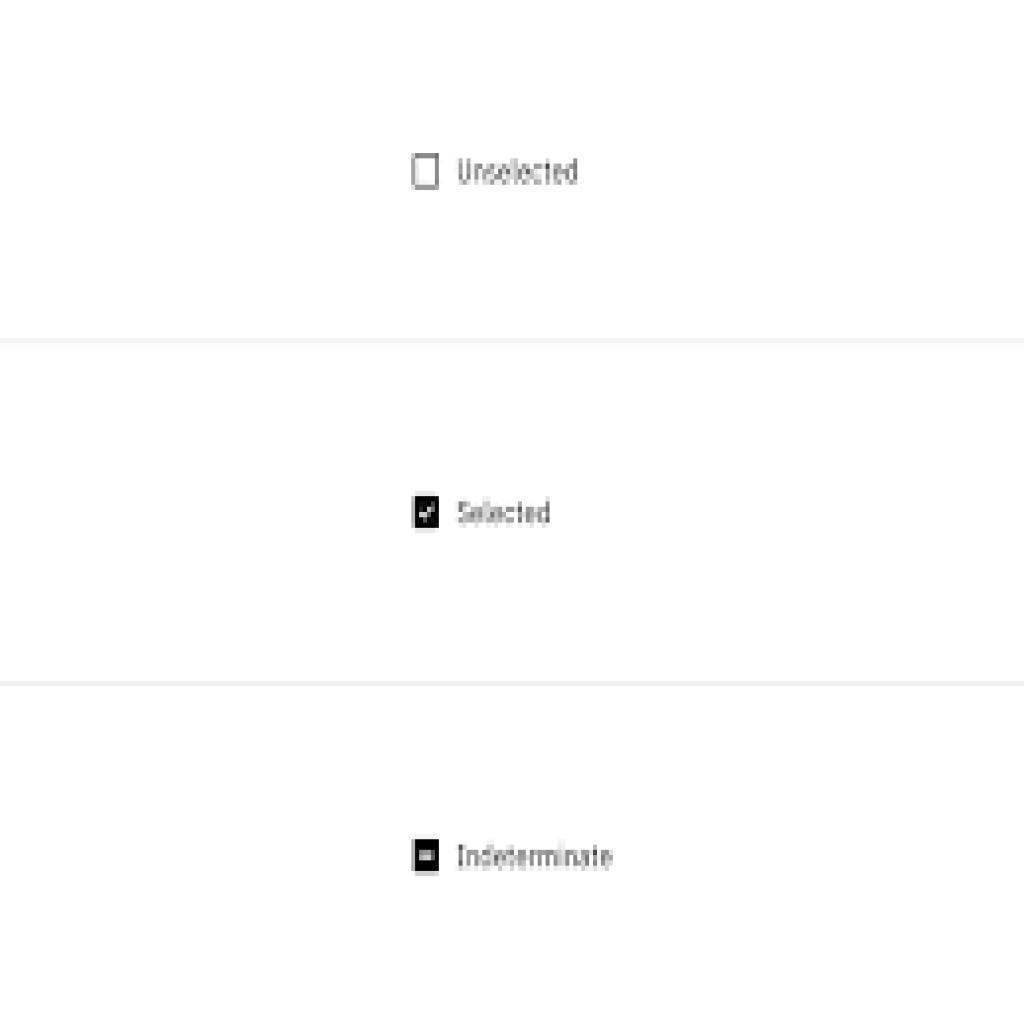checkbox: (413, 153, 439, 188), (415, 840, 439, 871), (414, 497, 437, 527)
label: (451, 837, 619, 875), (453, 149, 589, 192), (453, 491, 551, 532)
